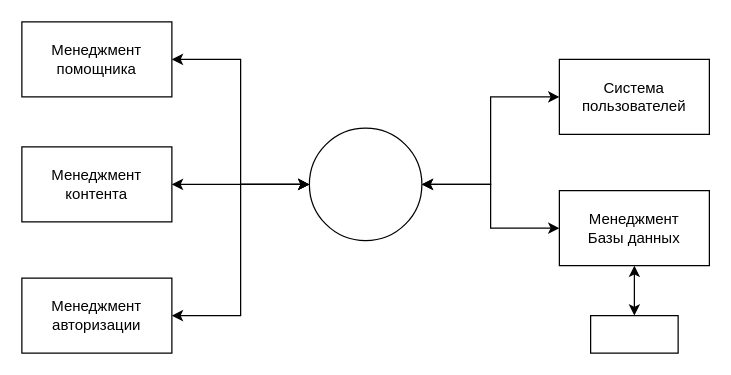
This 731x375 diagram has some shape labels left out. The shapes that lost their labels are listed below. From the top down, each one's centre as x and y in pixels, then its label:
the point at 365,184: Сайт подбора игр
the point at 633,333: Steam WebAPI
